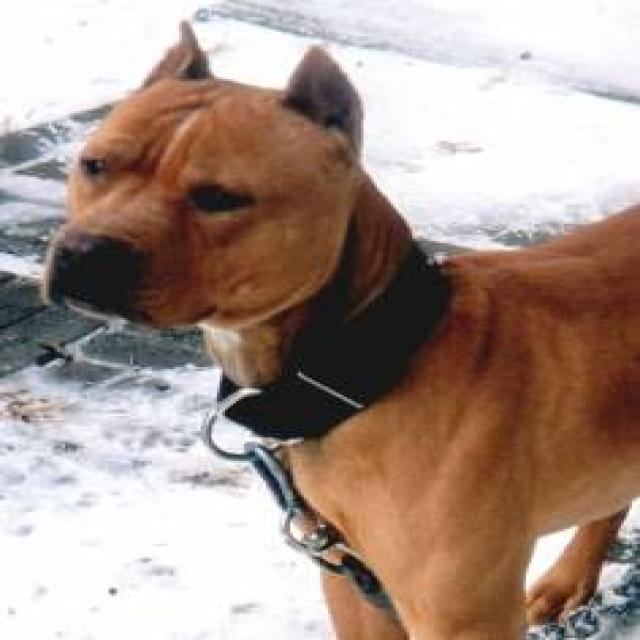dog-american_pit_bull_terrier: (30, 15, 635, 636)
